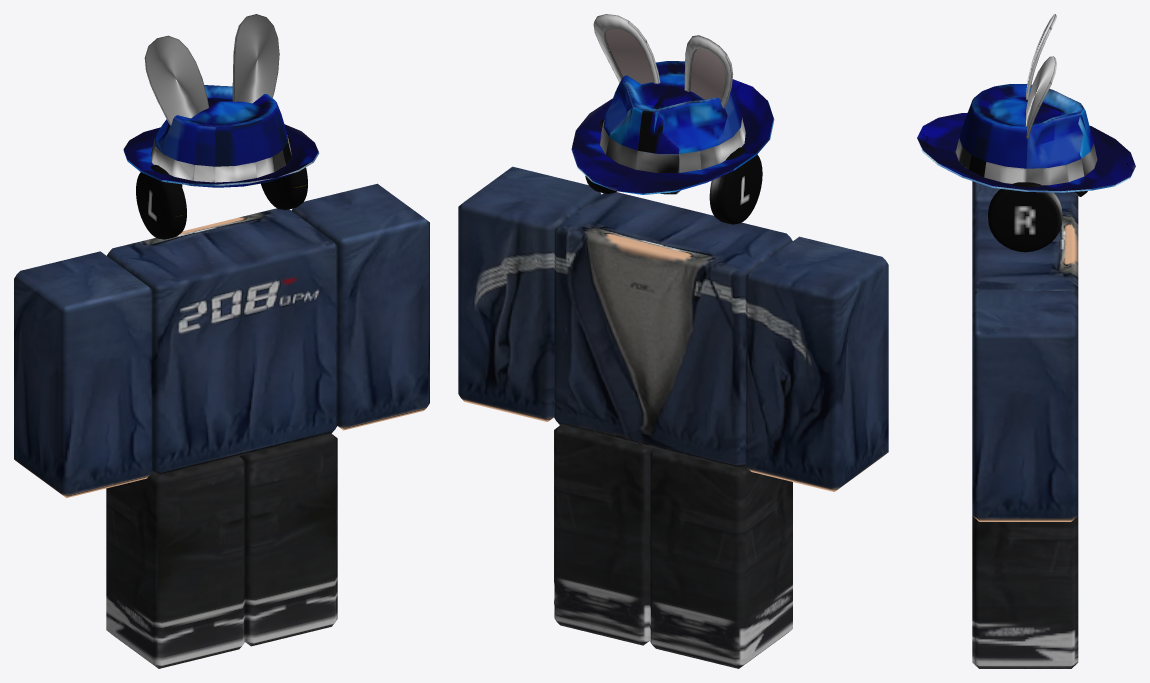
File: R6 Headless.obj
3 renders of one model, left to right at view 1: azimuth 30°, elevation 25°; view 2: azimuth 150°, elevation 25°; view 3: azimuth 270°, elevation 25°, orthographic. The views are drawn at different scales.
Parts seen in each view (by area): view 1: R6Headless5, R6Headless4, R6Headless2, R6Headless3, R6Headless1, Handle3, Handle4, Handle1; view 2: R6Headless5, R6Headless4, R6Headless2, R6Headless3, R6Headless1, Handle3, Handle4, Handle1; view 3: R6Headless3, Handle3, R6Headless1, R6Headless5, Handle1, Handle4, R6Headless4.
Boxes of the visible parts, <box> form: R6Headless5: <box>107,208,337,475</box>; R6Headless4: <box>14,251,152,497</box>; R6Headless2: <box>106,456,245,668</box>; R6Headless3: <box>291,183,429,430</box>; R6Headless1: <box>239,433,337,646</box>; Handle3: <box>123,85,319,187</box>; Handle4: <box>144,14,279,125</box>; Handle1: <box>136,137,307,239</box>; R6Headless5: <box>554,192,792,468</box>; R6Headless4: <box>745,236,888,491</box>; R6Headless2: <box>649,448,792,668</box>; R6Headless3: <box>458,166,601,421</box>; R6Headless1: <box>554,425,655,645</box>; Handle3: <box>571,61,774,194</box>; Handle4: <box>593,14,733,108</box>; Handle1: <box>585,119,762,224</box>; R6Headless3: <box>972,291,1078,521</box>; Handle3: <box>917,84,1135,192</box>; R6Headless1: <box>972,516,1078,668</box>; R6Headless5: <box>972,201,1078,296</box>; Handle1: <box>988,182,1062,252</box>; Handle4: <box>1025,14,1056,138</box>; R6Headless4: <box>972,181,1078,207</box>.
Bounding box in the file's own units: 4 × 6.15 × 2.07.
2 materials, 2 textured.
